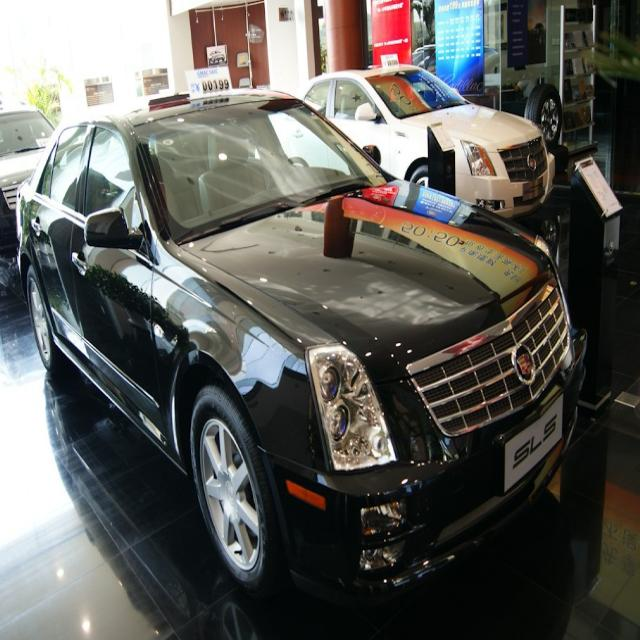front_bumper: (266, 331, 587, 596)
front_glass: (134, 93, 393, 249)
front_right_side_door: (72, 119, 164, 454)
front_right_side_light: (304, 340, 399, 479)
front_right_side_mirror: (81, 205, 144, 256)
wheel: (188, 387, 270, 592), (29, 266, 63, 372)
